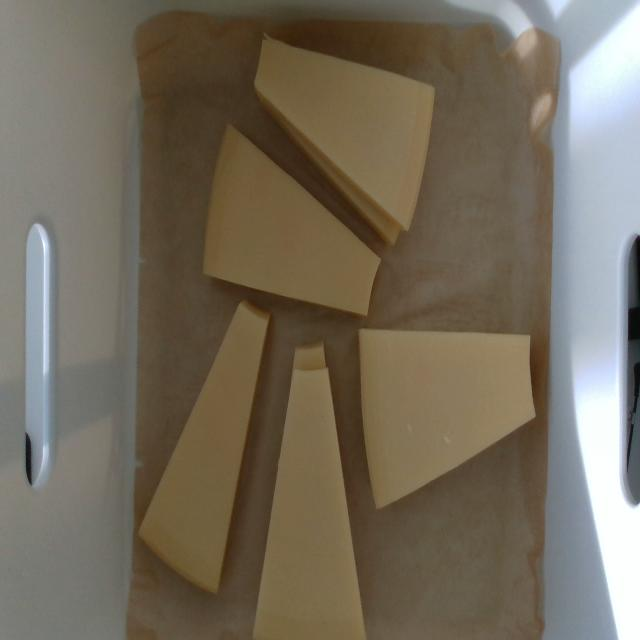Cheese: (140, 304, 268, 589), (204, 127, 379, 315), (255, 40, 434, 219), (359, 332, 534, 508), (254, 371, 365, 639)
